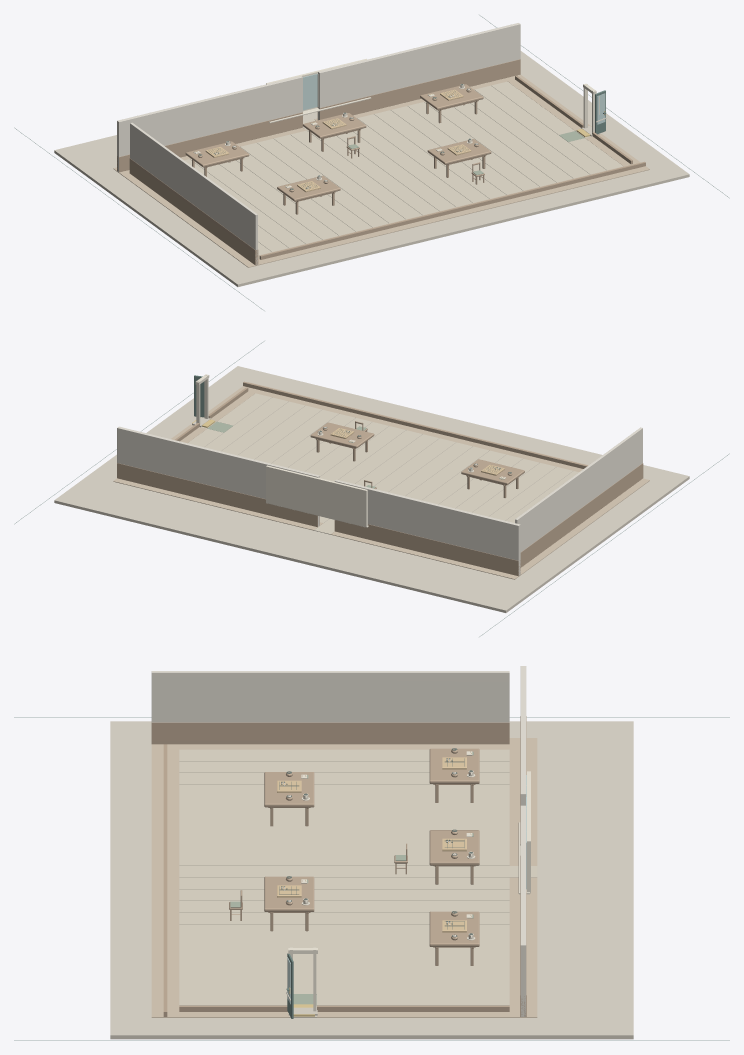
Rendered from room.glb.
3 views of the same model, one above another, from view 1: azimuth 30°, elevation 25°; view 2: azimuth 150°, elevation 25°; view 3: azimuth 270°, elevation 25° (orthographic). The views are drawn at different scales.
Visible parts, largest first — view 1: Campaign_paving, Campaign_plaster, Campaign_stone, Campaign_wood, Campaign_floor, Campaign_cream, Campaign_board, Campaign_glass, Campaign_metal; view 2: Campaign_stone, Campaign_paving, Campaign_plaster, Campaign_wood, Campaign_floor, Campaign_cream, Campaign_metal; view 3: Campaign_paving, Campaign_stone, Campaign_plaster, Campaign_wood, Campaign_floor, Campaign_board, Campaign_cream, Campaign_metal.
Boxes of the visible parts, bbox=[...] form: Campaign_paving: bbox=[184, 81, 622, 255]; Campaign_plaster: bbox=[117, 23, 520, 264]; Campaign_stone: bbox=[54, 51, 689, 286]; Campaign_wood: bbox=[117, 59, 645, 265]; Campaign_floor: bbox=[113, 74, 649, 267]; Campaign_cream: bbox=[194, 58, 606, 188]; Campaign_board: bbox=[205, 89, 471, 192]; Campaign_glass: bbox=[303, 73, 605, 124]; Campaign_metal: bbox=[14, 15, 729, 310]; Campaign_stone: bbox=[54, 366, 689, 612]; Campaign_paving: bbox=[188, 393, 578, 534]; Campaign_plaster: bbox=[117, 426, 642, 575]; Campaign_wood: bbox=[117, 381, 643, 576]; Campaign_floor: bbox=[113, 382, 649, 579]; Campaign_cream: bbox=[195, 374, 505, 527]; Campaign_metal: bbox=[14, 341, 729, 636]; Campaign_paving: bbox=[179, 749, 537, 1017]; Campaign_stone: bbox=[110, 721, 633, 1039]; Campaign_plaster: bbox=[151, 666, 526, 1016]; Campaign_wood: bbox=[151, 716, 526, 1016]; Campaign_floor: bbox=[151, 738, 537, 1017]; Campaign_board: bbox=[277, 757, 466, 932]; Campaign_cream: bbox=[286, 751, 530, 1011]; Campaign_metal: bbox=[14, 717, 729, 1040].
Size of what is drawn, in the model's own units: 22.22 by 2.45 by 20.8.
